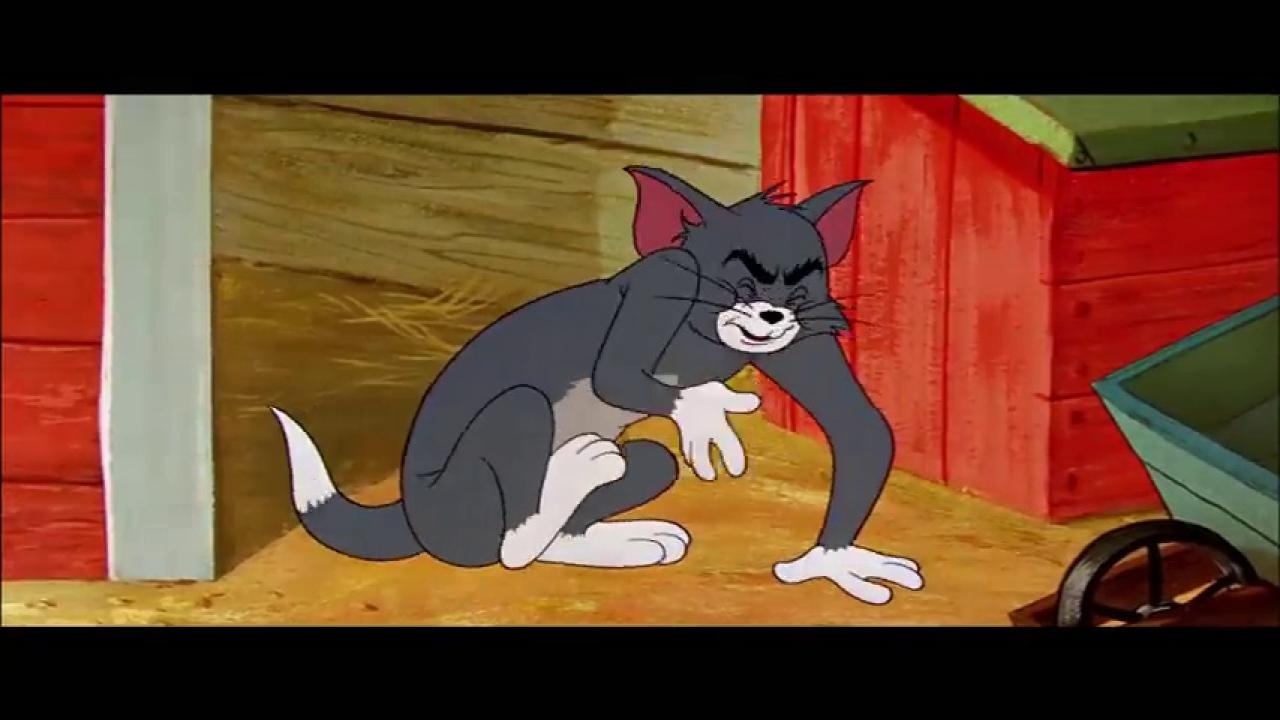Tom: (265, 162, 930, 608)
